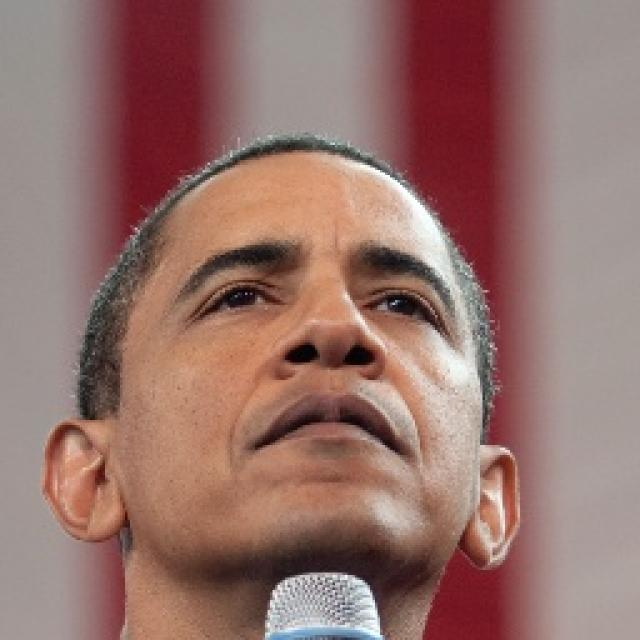earlobe: (39, 416, 123, 542), (460, 442, 521, 570)
